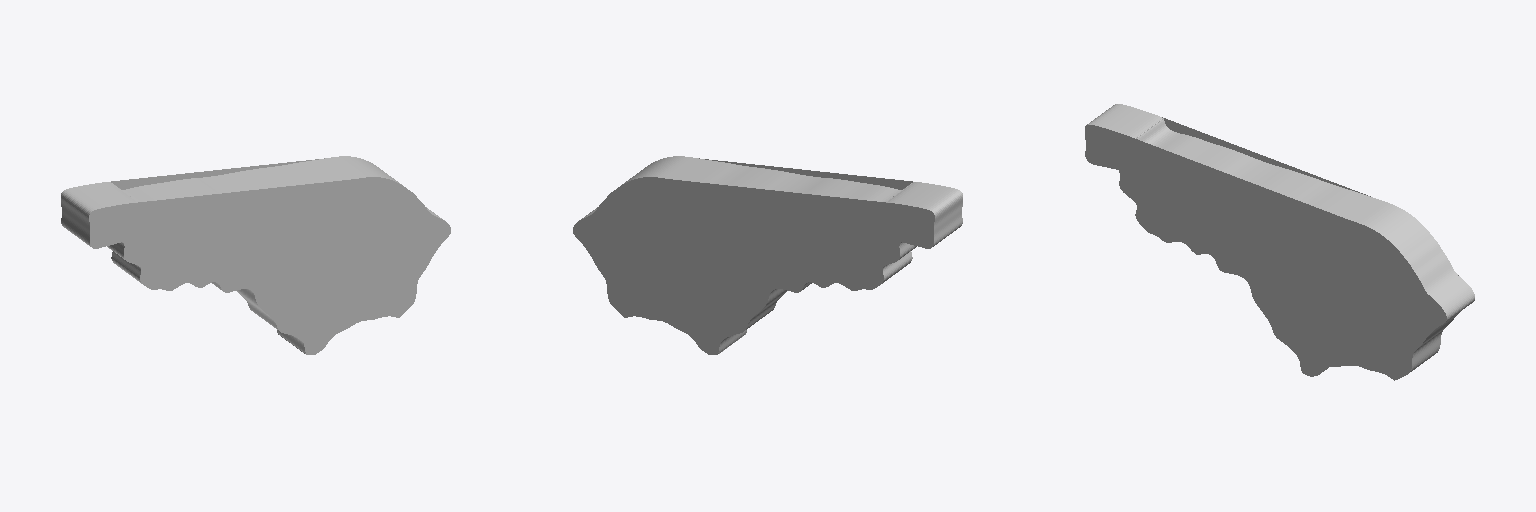
3 views of the same model, side by side, from view 1: azimuth 30°, elevation 25°; view 2: azimuth 150°, elevation 25°; view 3: azimuth 330°, elevation 25° (orthographic).
Parts seen in each view (by area): view 1: 平面; view 2: 平面; view 3: 平面.
Part boxes in pixels (bbox=[...]): 平面: bbox=[61, 156, 450, 354]; 平面: bbox=[573, 156, 962, 354]; 平面: bbox=[1085, 104, 1474, 380].
Bounding box in the file's own units: 1.47 × 0.7691 × 0.2.